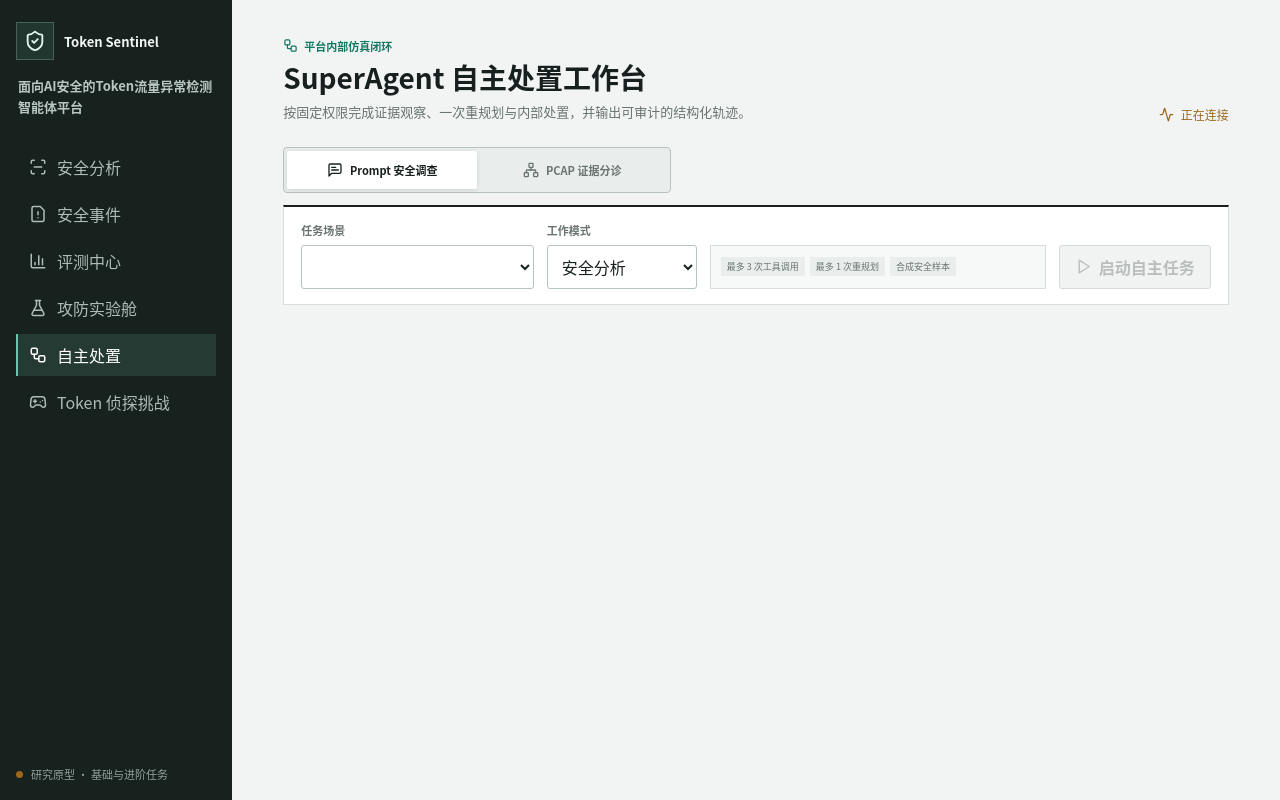
Scenario: PCAP SuperAgent evidence workspace › disables preparation when PCAP capability is unavailable
The image size is (1280, 800).
Click the button "PCAP 证据分诊".
click(572, 170)  # box [477, 151, 667, 189]
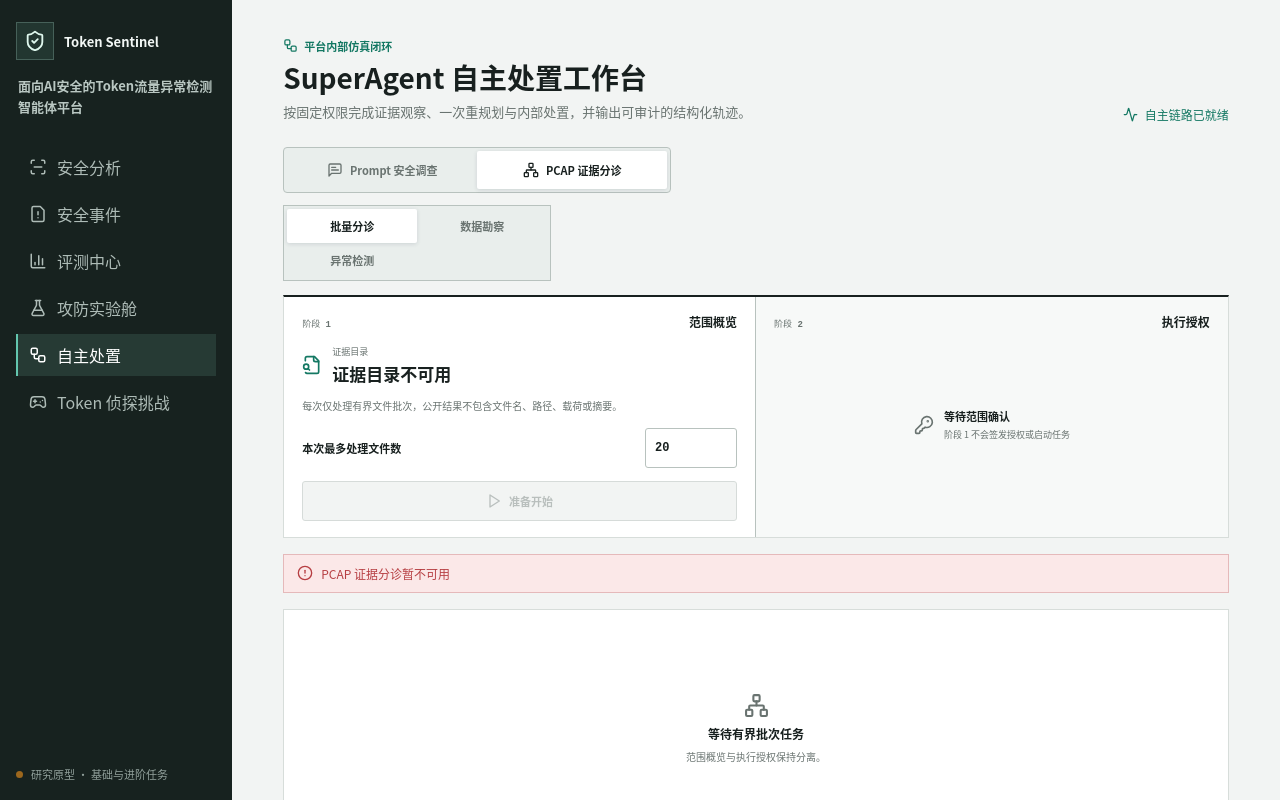
Result: the message reads "PCAP 证据分诊暂不可用" at [321, 565, 450, 582]
Result: the button "准备开始" is disabled at [302, 481, 737, 521]
